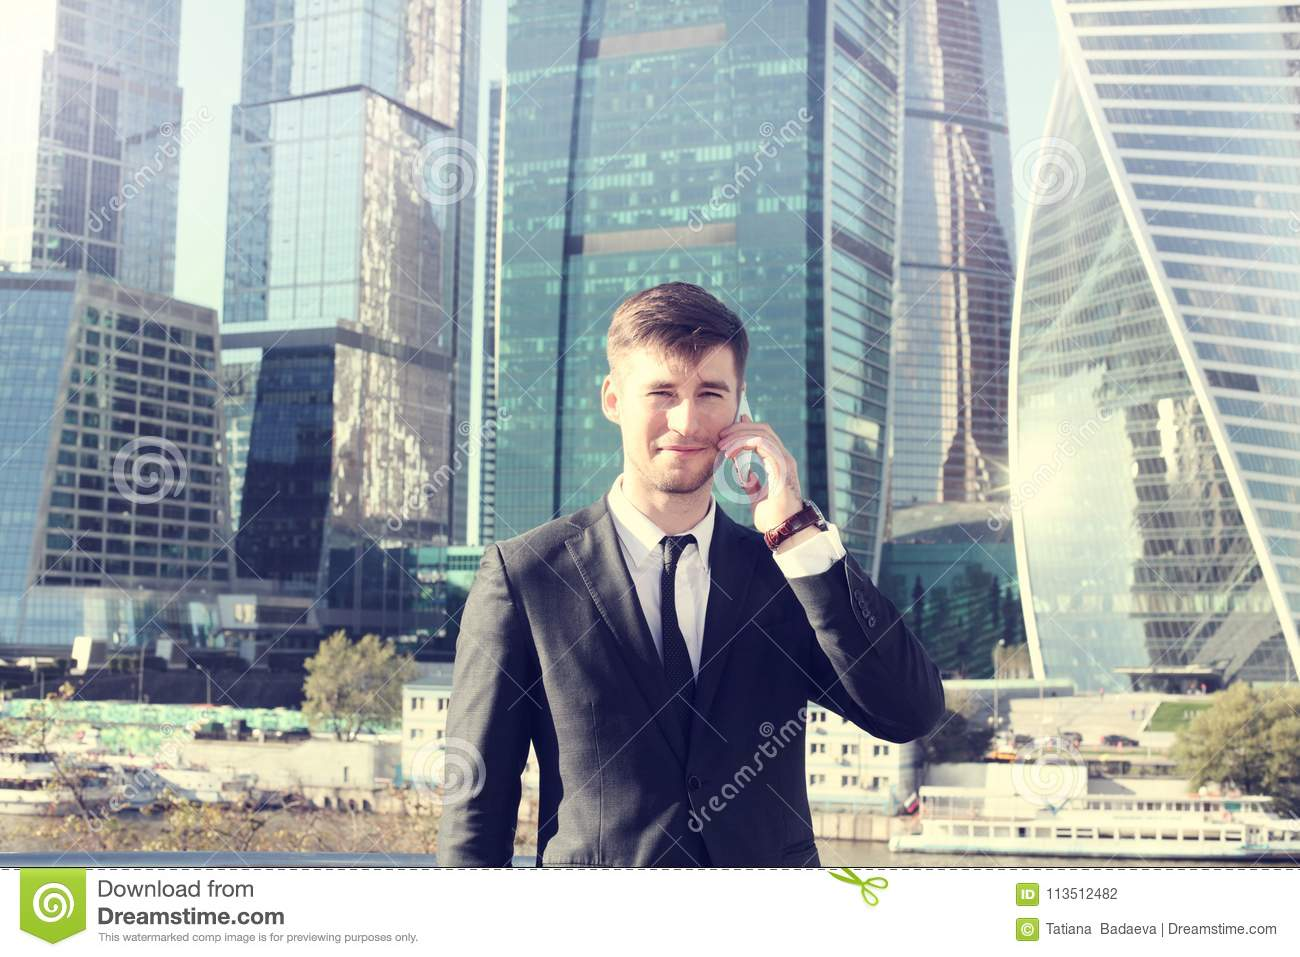phone: (726, 384, 759, 498)
talk: (630, 368, 799, 531)
